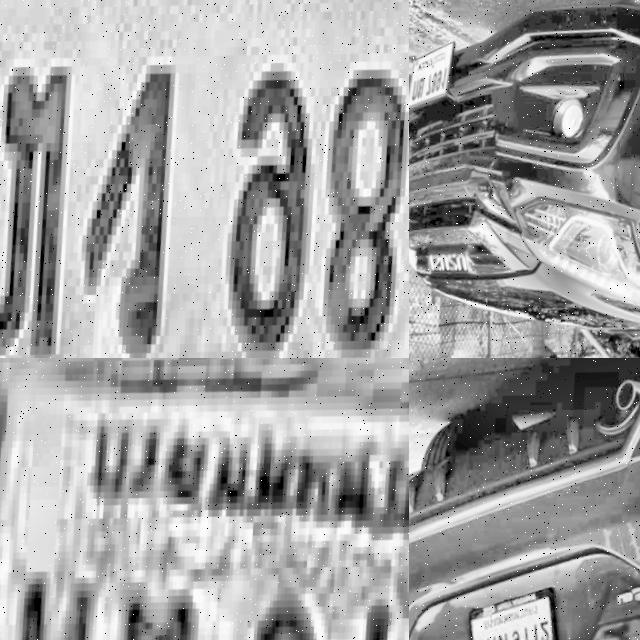license-plate: (0, 0, 409, 358), (0, 358, 409, 640), (409, 15, 468, 128), (457, 577, 561, 640)
